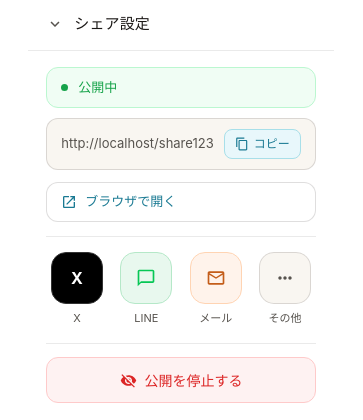
Scenario: Form › switchTripStatus mode › copies URL to clipboard when copy button is clicked
What coordinates should you click on to do the following:
click the button "コピー"
I would click on:
 (262, 144)
Its box is [224,129,301,159].
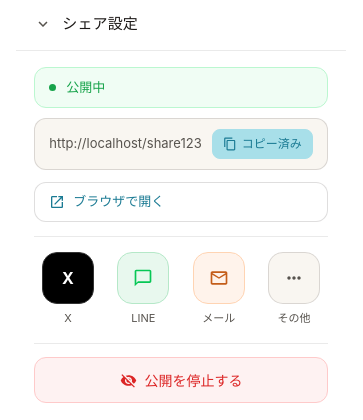
Expected: the text "コピー済み" is shown, [242,135,302,153]
